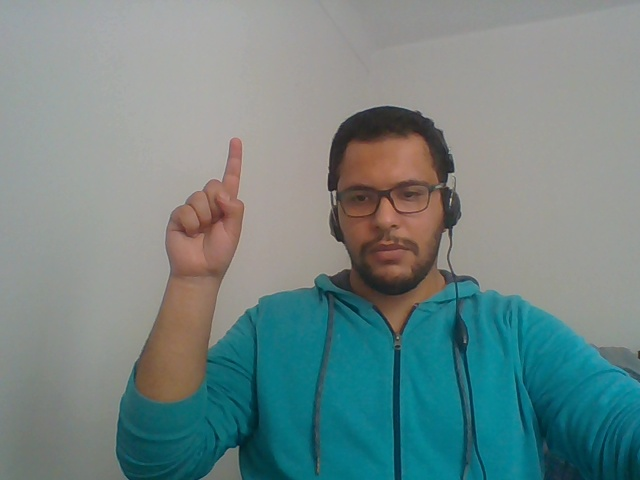handup: (137, 121, 264, 428)
